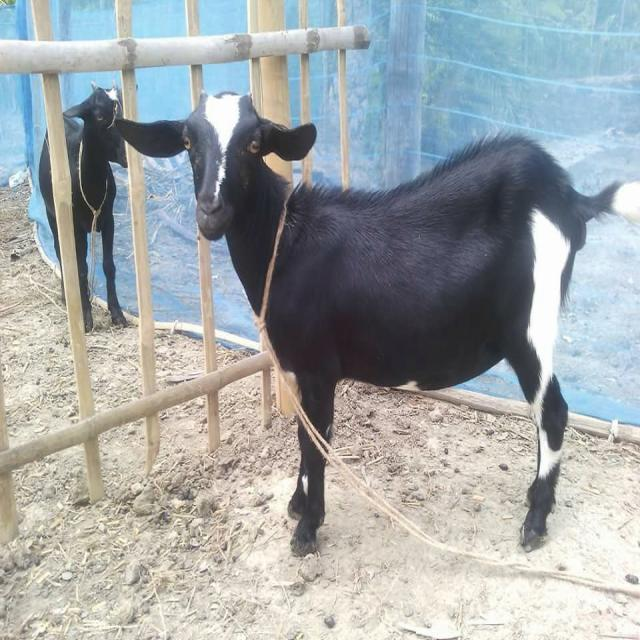Goat: (110, 86, 631, 558), (38, 79, 130, 333)
